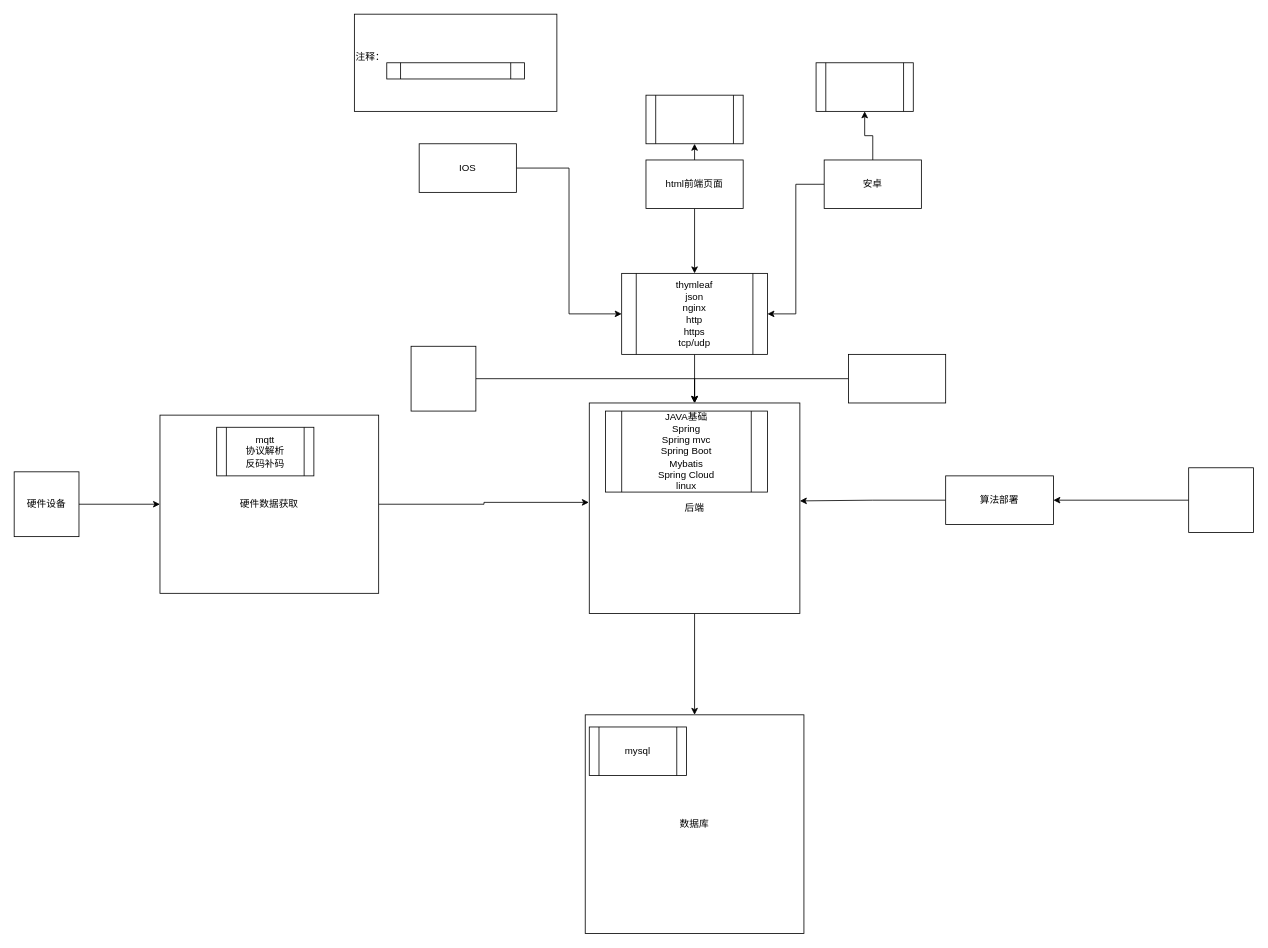
Some shapes in this 1268 by 948 pixel diagram are drawn without their labels. The centre of each missing label's shape, as x and y in pixels:
"HTML VUE REACT JS" goes at pixel 694 119.
"JAVA" goes at pixel 864 86.
"rabbitmq" goes at pixel 897 378.
"redis" goes at pixel 443 378.
"算法" goes at pixel 1220 500.
"表示需要学习的技术" goes at pixel 455 70.
